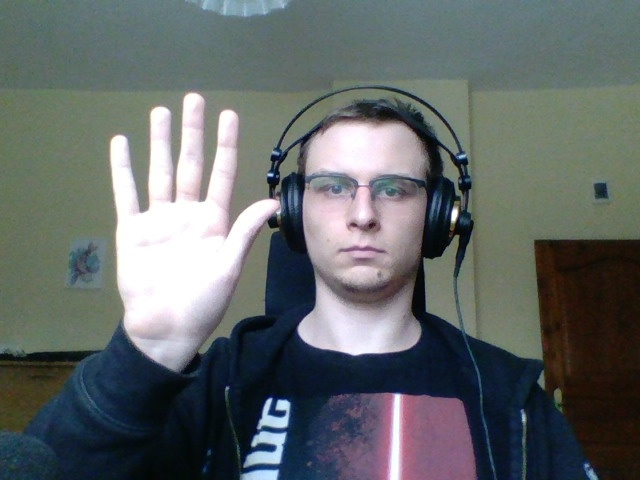hello: (109, 89, 281, 384)
